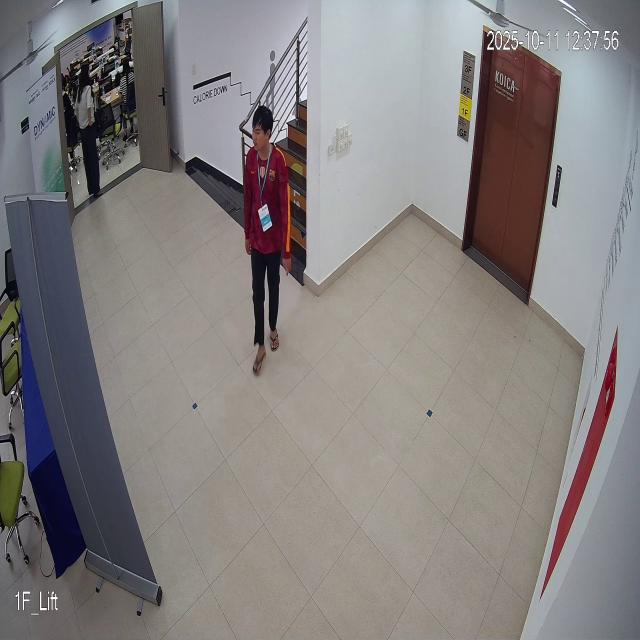face: (251, 99, 277, 154)
